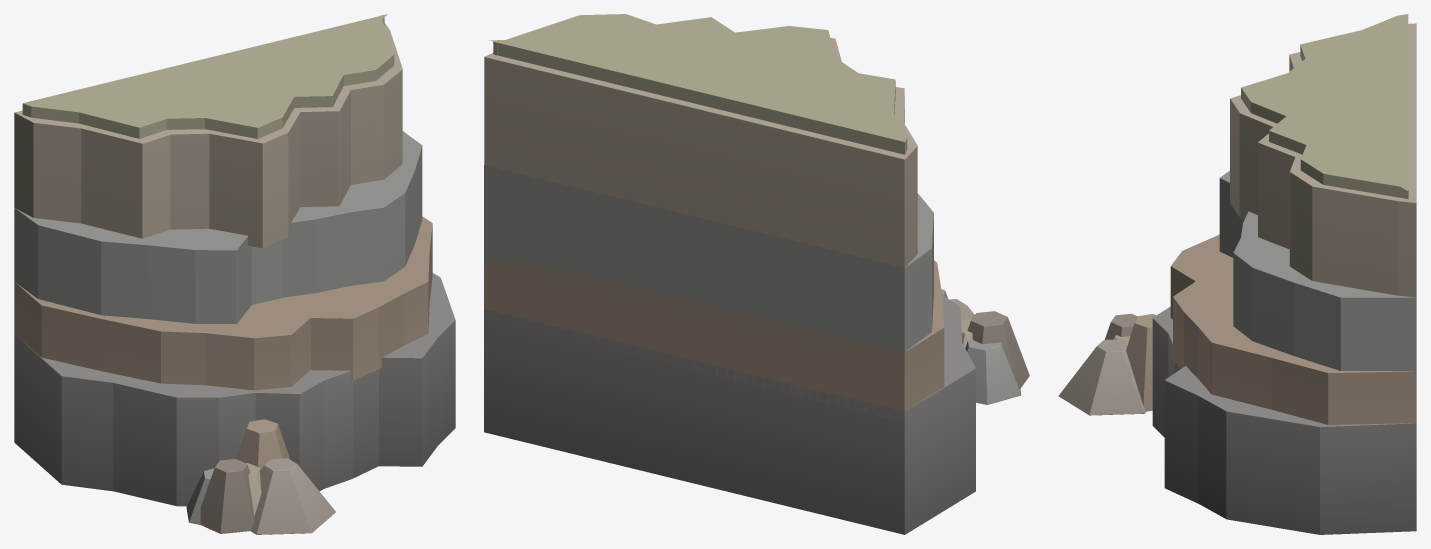
The model's file is iv_cliff_c.glb.
The picture shows the model from 3 angles, left to right: view 1: azimuth 30°, elevation 25°; view 2: azimuth 150°, elevation 25°; view 3: azimuth 270°, elevation 25°; orthographic projection. The views are drawn at different scales.
Visible parts, largest first — view 1: iv_cliff_c; view 2: iv_cliff_c; view 3: iv_cliff_c.
Part boxes in pixels (x1=…): iv_cliff_c: x1=14, y1=14, x2=455, y2=534; iv_cliff_c: x1=484, y1=14, x2=1029, y2=534; iv_cliff_c: x1=1058, y1=14, x2=1416, y2=534.
Size of the model in its own units: 16 by 13.55 by 12.95.
